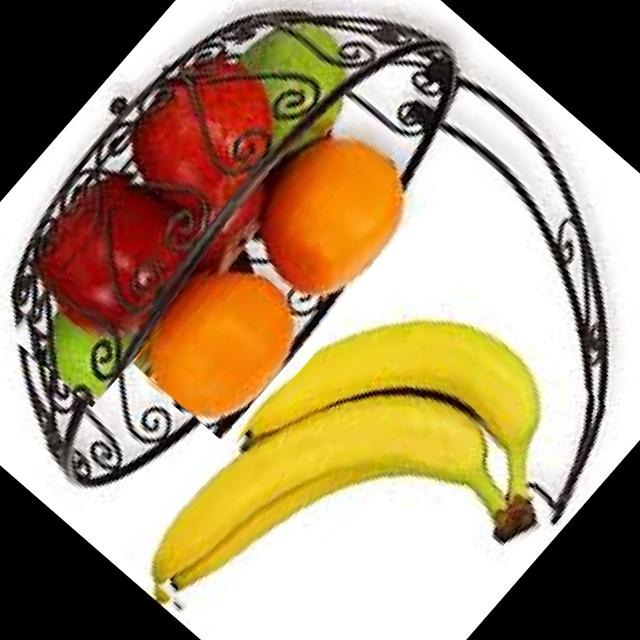Organic: (122, 238, 629, 640), (0, 15, 355, 407), (113, 93, 440, 440)
